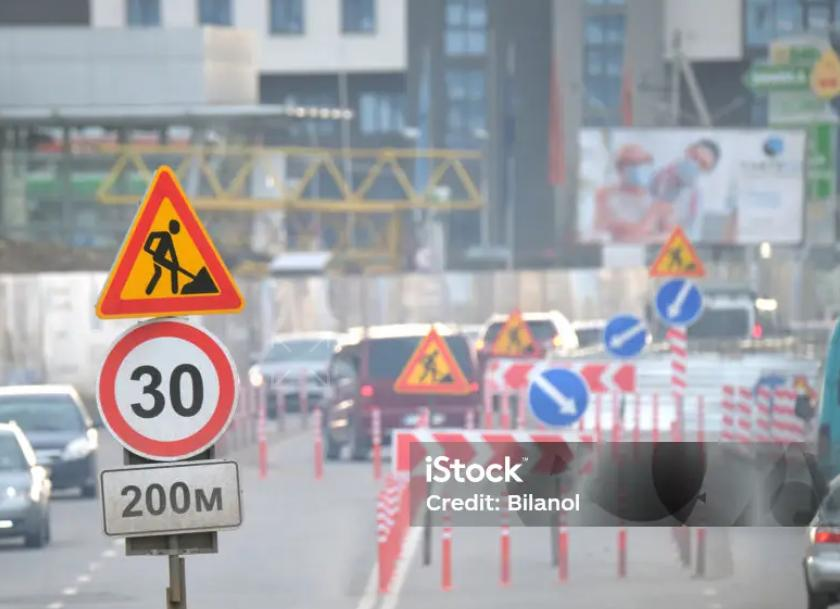obstructed_road_sign: (395, 432, 593, 472), (483, 361, 635, 395)
road_sign: (96, 166, 245, 320), (94, 318, 239, 460), (103, 460, 242, 532), (394, 328, 470, 394), (529, 369, 589, 427), (651, 226, 708, 274), (488, 309, 542, 355), (656, 279, 704, 325), (603, 314, 647, 359)
